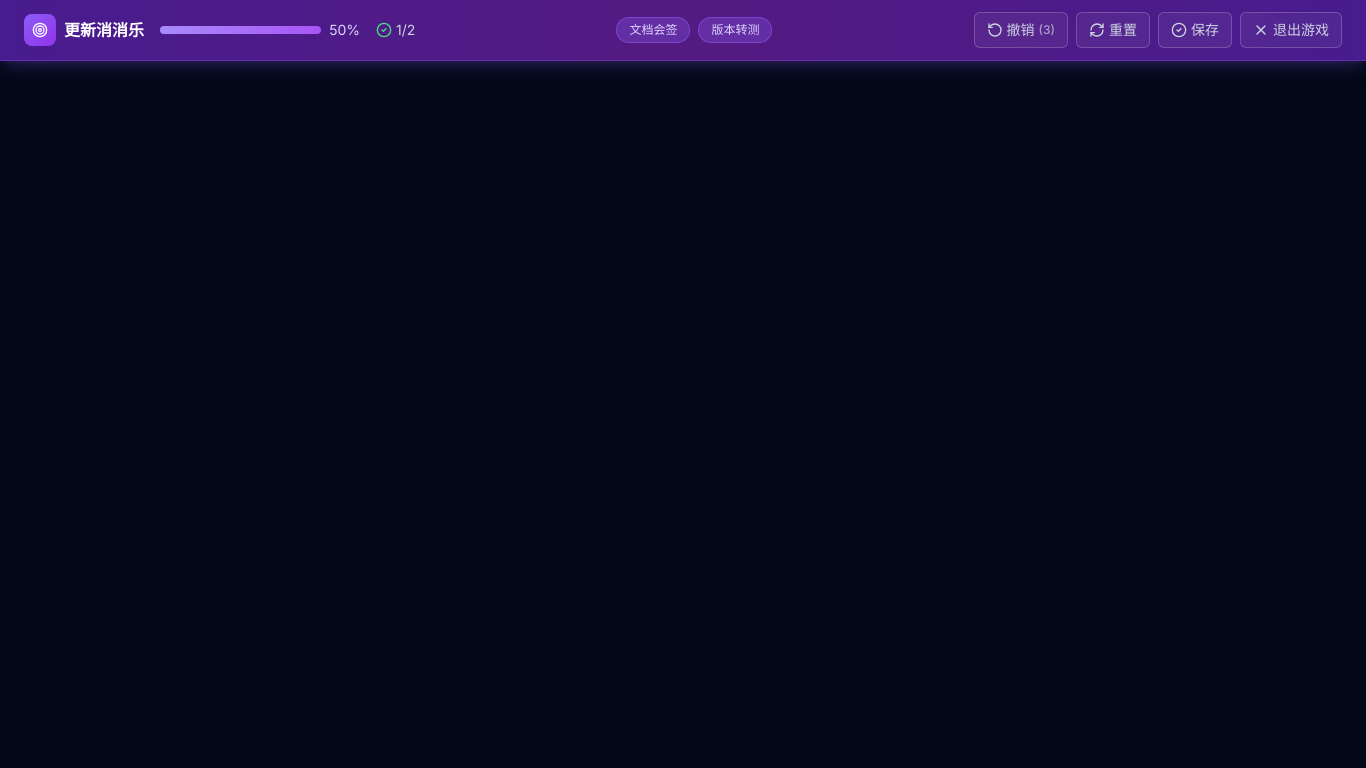
GameStatusBar › exit dialog › should show unsaved warning when not saved
Click the button "退出游戏".
click(1291, 30)  # box [1240,12,1342,48]
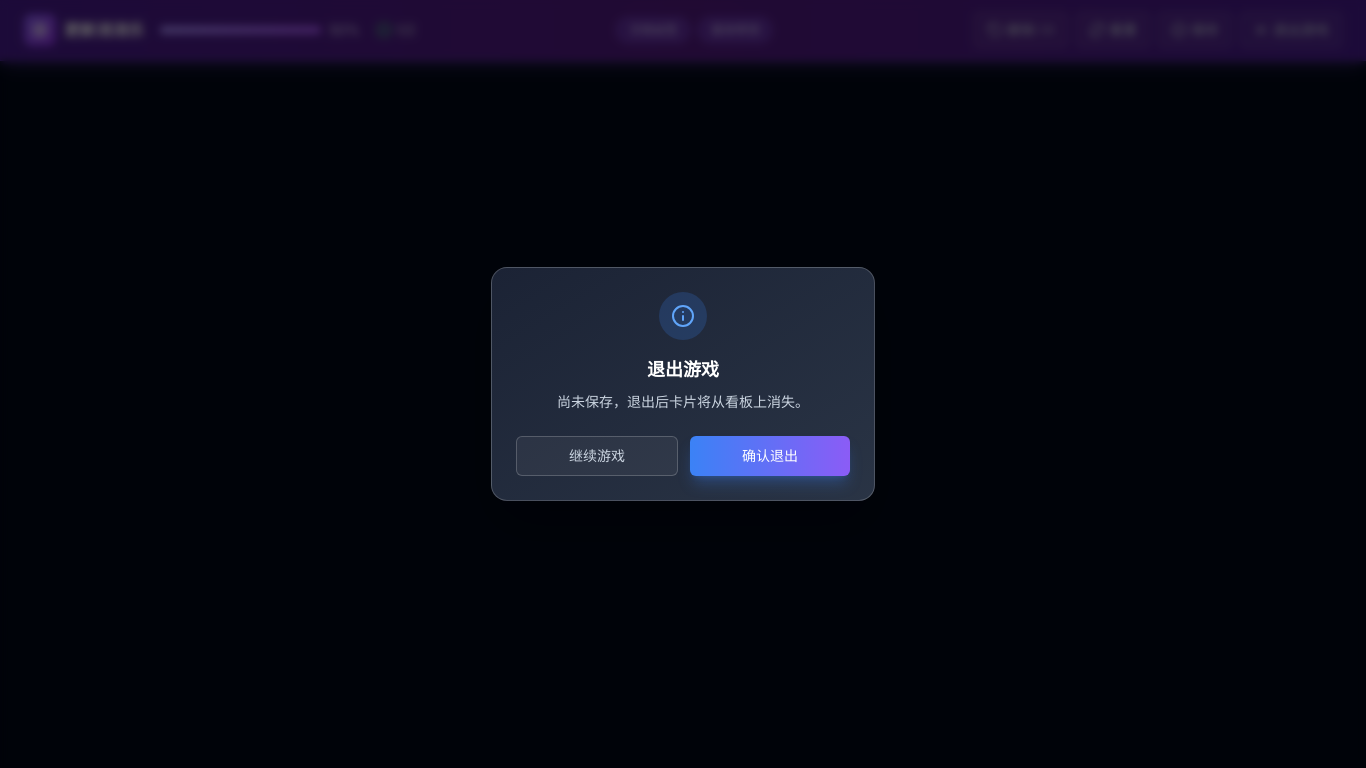
Expected: the text "尚未保存，退出后卡片将从看板上消失。" is shown, [557,393,809,410]
